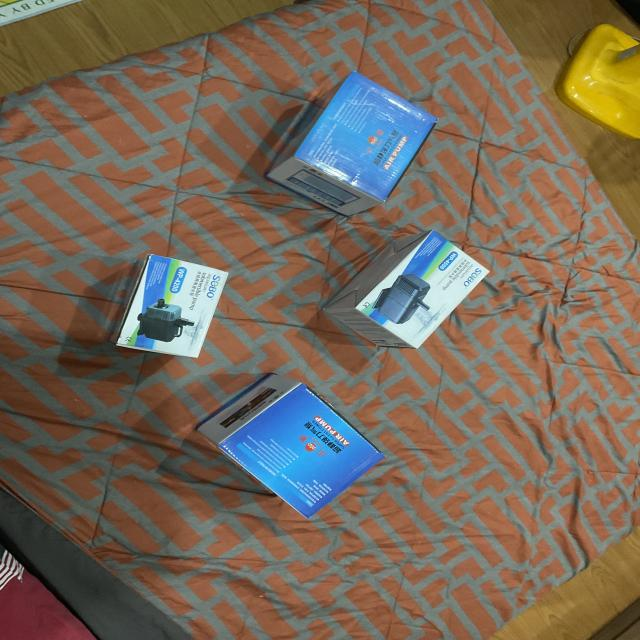SOBO_WP_4200: (312, 222, 491, 352), (97, 243, 232, 370)
YAMANO_LPP_20: (185, 364, 380, 530), (264, 68, 443, 214)
